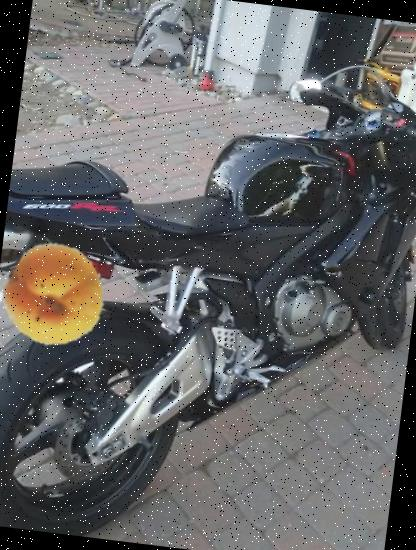Peach: (0, 237, 115, 354)
